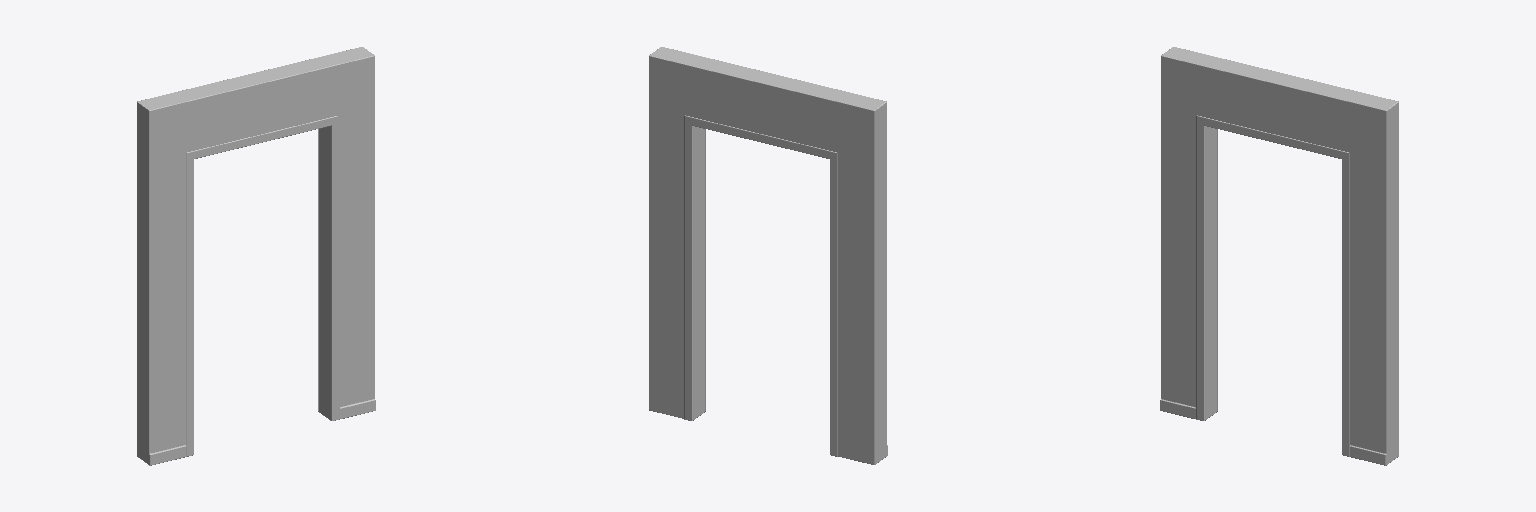
File: Muro_porta.obj
3 views of the same model, side by side, from view 1: azimuth 30°, elevation 25°; view 2: azimuth 150°, elevation 25°; view 3: azimuth 330°, elevation 25° (orthographic).
Parts seen in each view (by area): view 1: Muro_porta; view 2: Muro_porta; view 3: Muro_porta.
Boxes of the visible parts, <box> form: Muro_porta: <box>137,47,375,465</box>; Muro_porta: <box>649,47,887,464</box>; Muro_porta: <box>1160,47,1398,465</box>.
Size of the model in its own units: 2 by 3 by 0.2151.